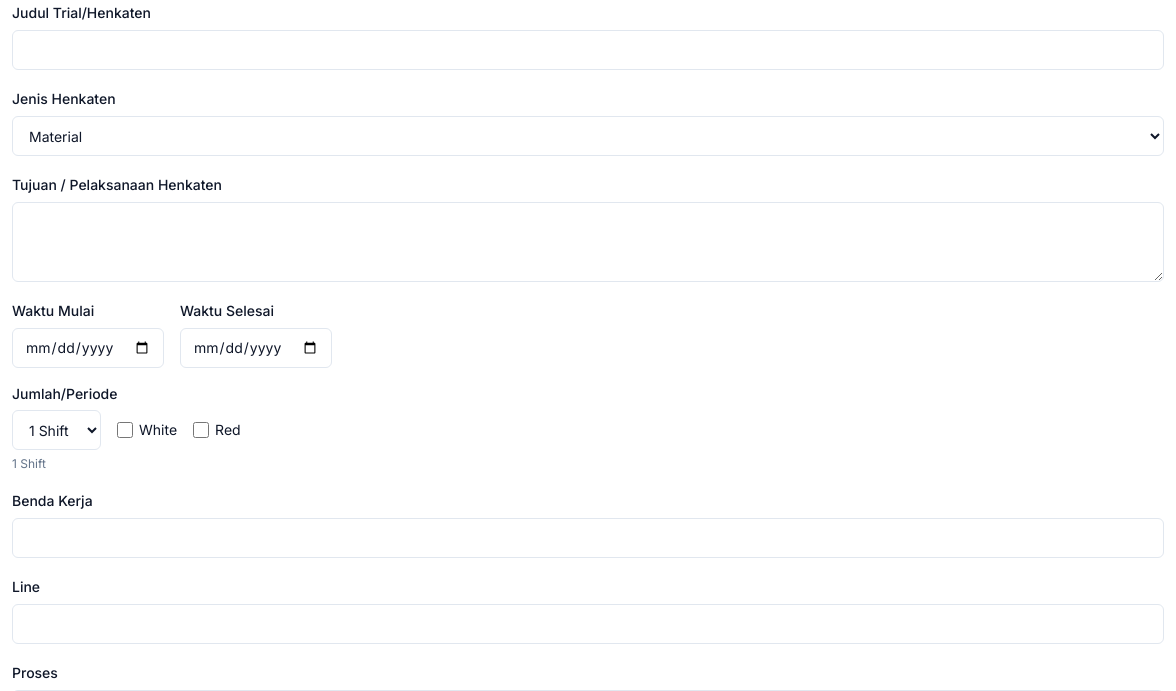
HeaderFields › reveals a manual input when Jenis Henkaten is Lain-lain
The width and height of the screenshot is (1176, 691).
expect the field with placeholder "Tulis jenis henkaten" is not shown: met
Select "Lain-lain" in the dropdown labelled "Jenis Henkaten" at (588, 136), box left=12, top=116, right=1164, bottom=156
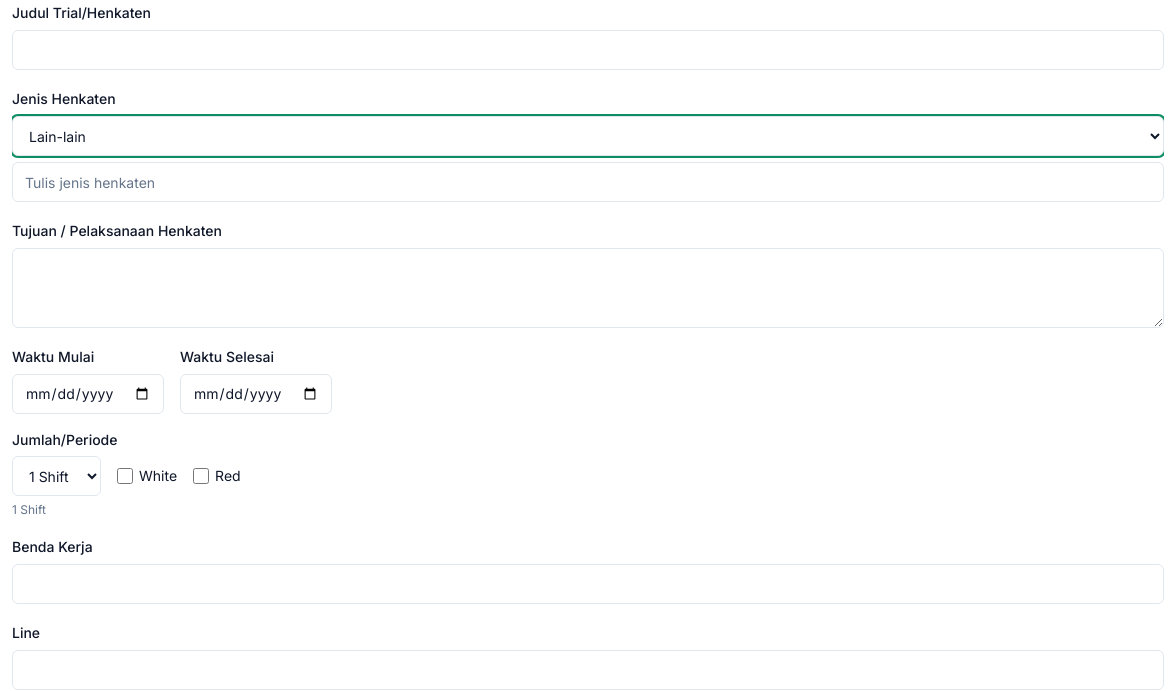
expect the field with placeholder "Tulis jenis henkaten" is shown: met, box left=12, top=162, right=1164, bottom=202
